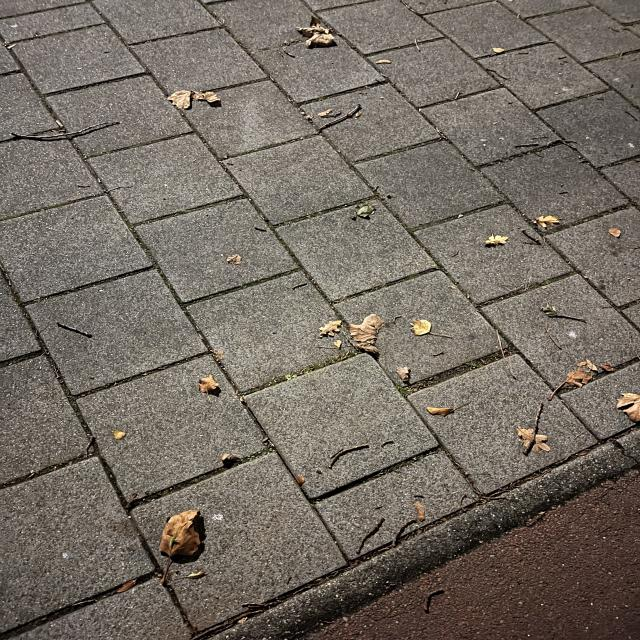leaves: (149, 509, 207, 590), (315, 312, 387, 354), (168, 87, 223, 108), (195, 371, 227, 396), (405, 317, 434, 339)
pavement: (0, 0, 639, 639), (288, 171, 639, 470), (0, 482, 223, 639), (296, 0, 427, 88)
